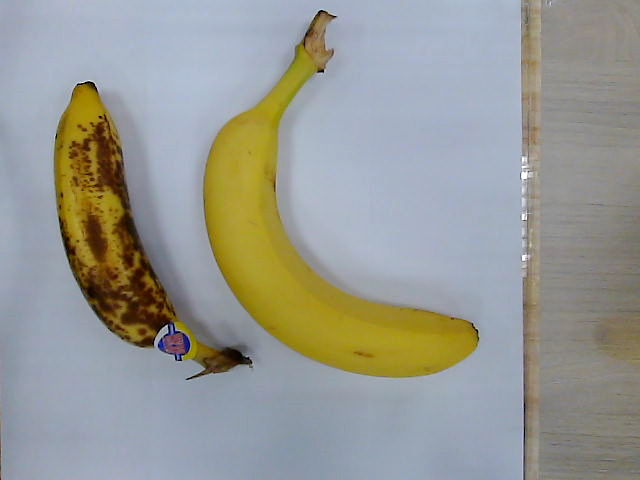fresh_banana: (203, 9, 482, 380)
rotten_banana: (54, 81, 247, 377)
